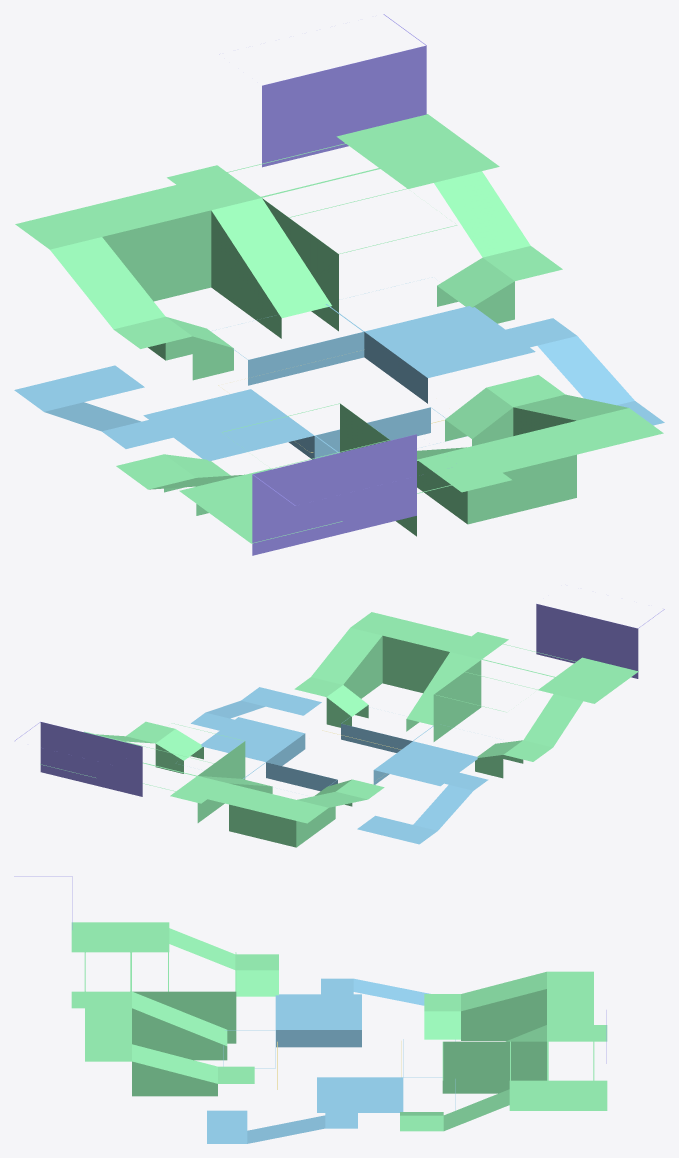
3 renders of one model, top to bottom at view 1: azimuth 30°, elevation 25°; view 2: azimuth 150°, elevation 25°; view 3: azimuth 270°, elevation 25°, orthographic. The views are drawn at different scales.
Visible parts, largest first — view 1: level0; view 2: level0; view 3: level0.
Boxes of the visible parts, x1=… form: level0: x1=14, y1=14, x2=664, y2=555; level0: x1=14, y1=603, x2=664, y2=847; level0: x1=14, y1=876, x2=607, y2=1143.
Size of the model in its own units: 25.53 by 6.36 by 37.19.
